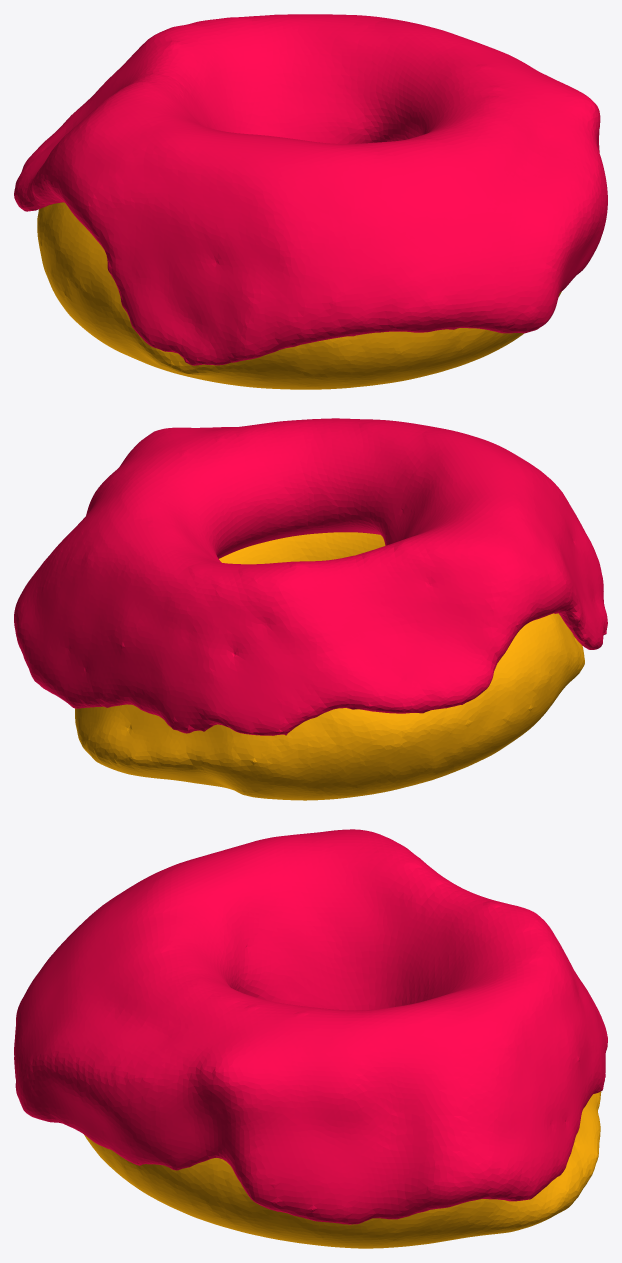
Rendered from zjl_donut.obj.
3 renders of one model, top to bottom at view 1: azimuth 30°, elevation 25°; view 2: azimuth 150°, elevation 25°; view 3: azimuth 270°, elevation 25°, orthographic. The views are drawn at different scales.
Size of the model in its own units: 0.6392 by 0.3041 by 0.6556.
